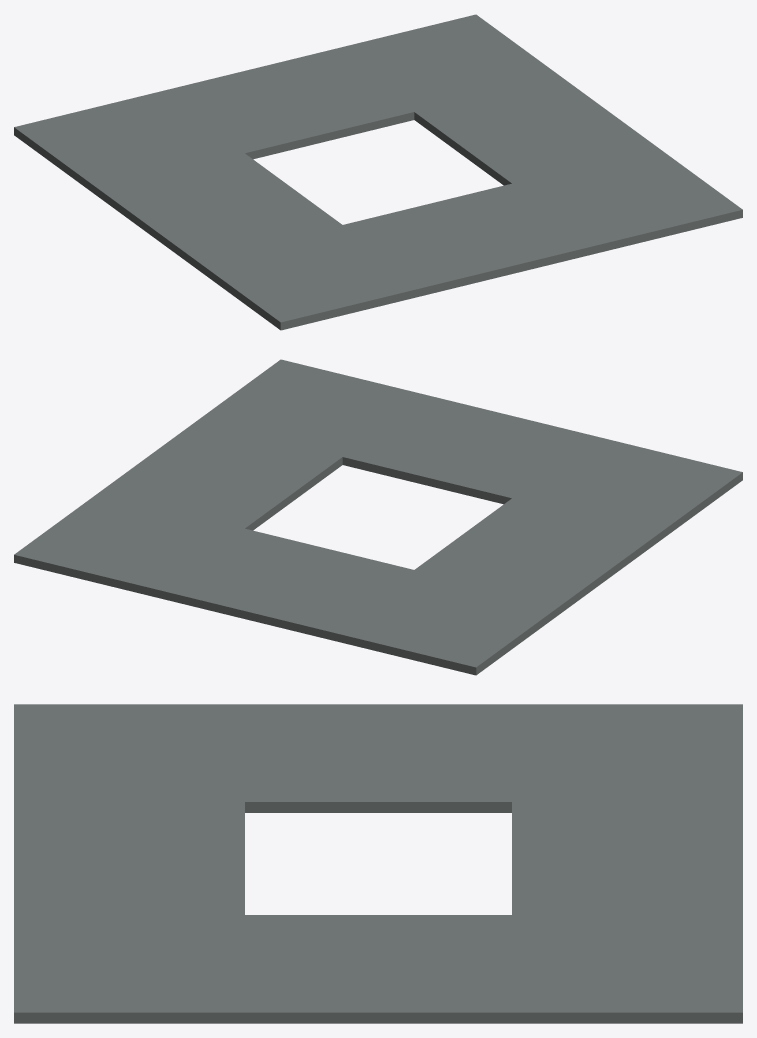
File: SM_Floor_Hatchway_3x3.gltf
3 renders of one model, top to bottom at view 1: azimuth 30°, elevation 25°; view 2: azimuth 150°, elevation 25°; view 3: azimuth 270°, elevation 25°, orthographic. The views are drawn at different scales.
Visible parts, largest first — view 1: SM_Floor_Hatchway_3x3; view 2: SM_Floor_Hatchway_3x3; view 3: SM_Floor_Hatchway_3x3.
Part boxes in pixels (<box>): SM_Floor_Hatchway_3x3: <box>14,14,742,330</box>; SM_Floor_Hatchway_3x3: <box>14,359,742,675</box>; SM_Floor_Hatchway_3x3: <box>14,704,742,1023</box>.
Size of the model in its own units: 3 by 0.05 by 3.
Materials: 1 (1 with a texture image).
